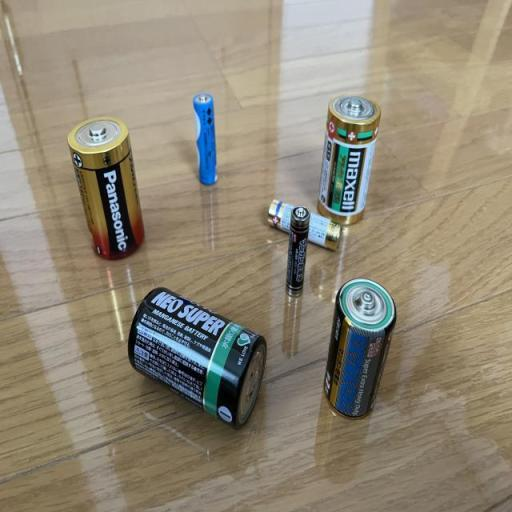battery: (124, 286, 269, 434), (317, 276, 400, 424), (68, 112, 146, 260), (319, 94, 383, 223), (264, 198, 344, 252), (190, 91, 222, 186), (285, 205, 311, 301)
